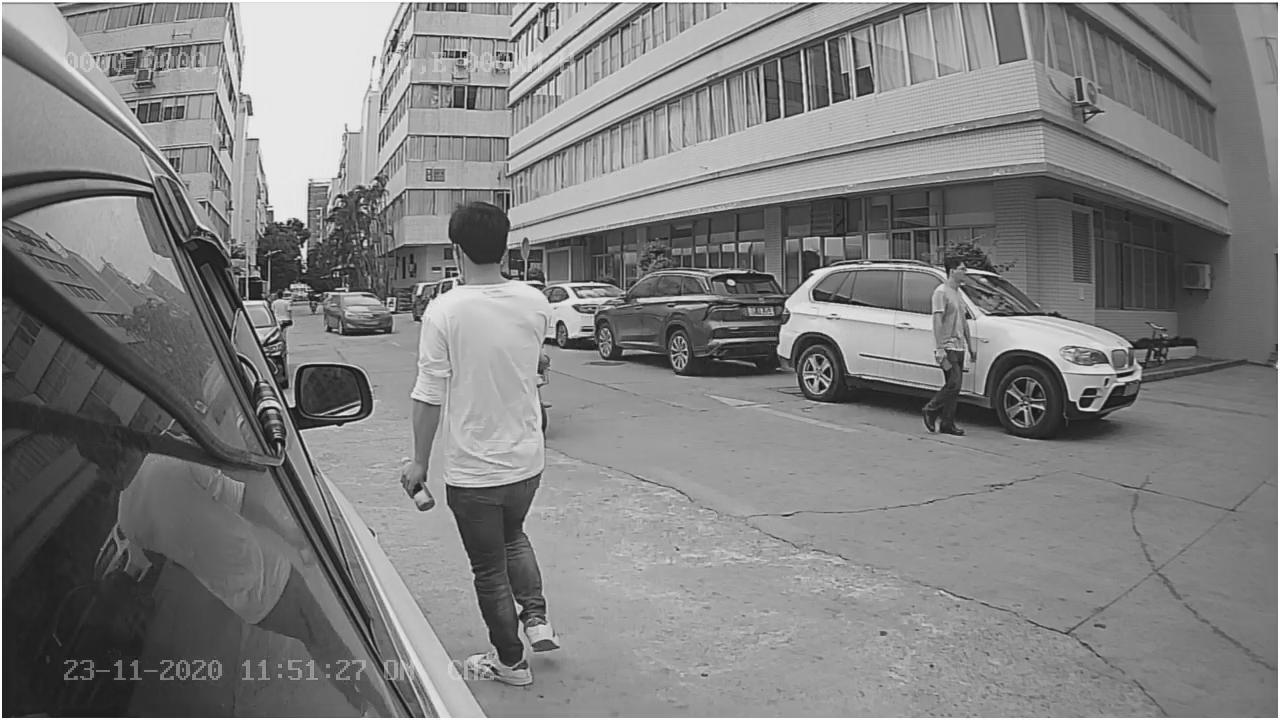person: (408, 187, 562, 445), (917, 248, 975, 434)
